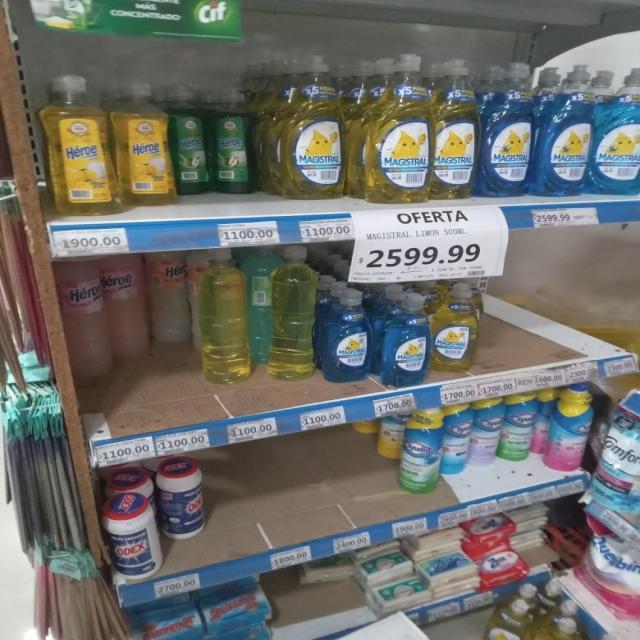heroe: (36, 73, 116, 217), (115, 80, 174, 207), (52, 248, 108, 371), (148, 249, 190, 345)
magistral_con_amarillo: (278, 52, 346, 200), (368, 52, 430, 204), (432, 56, 479, 200), (432, 280, 479, 374), (486, 599, 531, 640)
magistral_con_azul: (480, 60, 533, 198), (536, 63, 590, 197), (592, 64, 640, 196), (321, 287, 373, 383), (379, 289, 429, 387)
